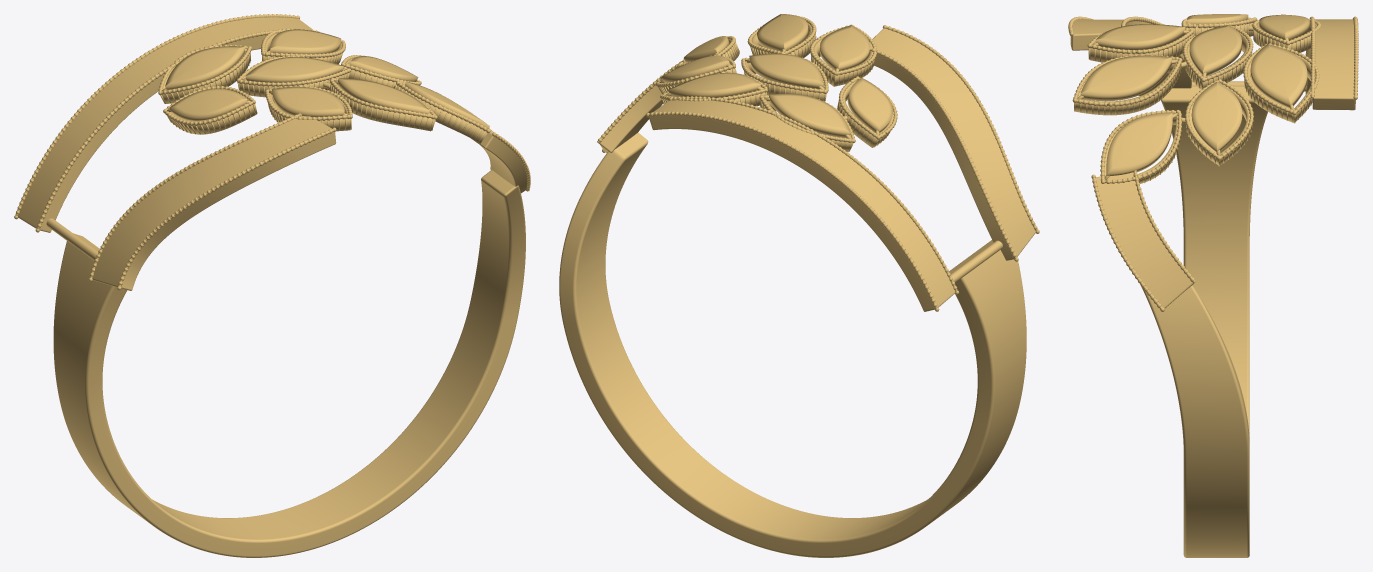
The picture shows the model from 3 angles, left to right: view 1: azimuth 30°, elevation 25°; view 2: azimuth 150°, elevation 25°; view 3: azimuth 270°, elevation 25°; orthographic projection. The views are drawn at different scales.
Parts seen in each view (by area): view 1: Complete tapered comfort shank | reverse inferred, Sweeping near frame, Far open frame, Milgrain | individual rounded gold beads, Open fan leaf 1 raised convex polished platelet, Open fan leaf 4 raised convex polished platelet, Open fan leaf 6 raised convex polished platelet, Open fan leaf 3 raised convex polished platelet, Open fan leaf 7 raised convex polished platelet, Open fan leaf 2 raised convex polished platelet, Right terminal shoulder, Open fan leaf 7 open marquise gallery (+5 smaller); view 2: Complete tapered comfort shank | reverse inferred, Far open frame, Sweeping near frame, Milgrain | individual rounded gold beads, Open fan leaf 1 raised convex polished platelet, Open fan leaf 4 raised convex polished platelet, Open fan leaf 6 raised convex polished platelet, Open fan leaf 2 raised convex polished platelet, Open fan leaf 3 raised convex polished platelet, Right terminal shoulder, Open fan leaf 7 raised convex polished platelet, Open fan leaf 5 raised convex polished platelet (+3 smaller); view 3: Complete tapered comfort shank | reverse inferred, Milgrain | individual rounded gold beads, Right terminal shoulder, Far open frame, Open fan leaf 7 raised convex polished platelet, Open fan leaf 8 raised convex polished platelet, Open fan leaf 2 raised convex polished platelet, Open fan leaf 5 raised convex polished platelet, Open fan leaf 4 raised convex polished platelet, Open fan leaf 6 raised convex polished platelet, Sweeping near frame, Open fan leaf 7 open marquise gallery (+10 smaller).
Boxes of the visible parts, x1,y1,x2,y2 form: Complete tapered comfort shank | reverse inferred: [53, 170, 525, 557]; Sweeping near frame: [92, 116, 336, 290]; Far open frame: [18, 17, 314, 232]; Milgrain | individual rounded gold beads: [14, 14, 530, 290]; Open fan leaf 1 raised convex polished platelet: [165, 46, 244, 89]; Open fan leaf 4 raised convex polished platelet: [245, 57, 343, 82]; Open fan leaf 6 raised convex polished platelet: [271, 86, 344, 116]; Open fan leaf 3 raised convex polished platelet: [169, 88, 247, 120]; Open fan leaf 7 raised convex polished platelet: [338, 78, 429, 114]; Open fan leaf 2 raised convex polished platelet: [270, 29, 341, 54]; Right terminal shoulder: [472, 132, 527, 193]; Open fan leaf 7 open marquise gallery: [330, 82, 432, 131]; Complete tapered comfort shank | reverse inferred: [559, 132, 1026, 557]; Far open frame: [649, 100, 955, 311]; Sweeping near frame: [868, 28, 1035, 260]; Milgrain | individual rounded gold beads: [598, 15, 1039, 311]; Open fan leaf 1 raised convex polished platelet: [769, 93, 850, 137]; Open fan leaf 4 raised convex polished platelet: [749, 53, 822, 89]; Open fan leaf 6 raised convex polished platelet: [820, 25, 870, 70]; Open fan leaf 2 raised convex polished platelet: [668, 72, 760, 97]; Open fan leaf 3 raised convex polished platelet: [847, 77, 892, 132]; Right terminal shoulder: [599, 85, 663, 152]; Open fan leaf 7 raised convex polished platelet: [757, 14, 808, 51]; Open fan leaf 5 raised convex polished platelet: [661, 55, 729, 82]; Complete tapered comfort shank | reverse inferred: [1140, 86, 1267, 557]; Milgrain | individual rounded gold beads: [1068, 16, 1358, 311]; Right terminal shoulder: [1095, 172, 1193, 308]; Far open frame: [1305, 19, 1355, 110]; Open fan leaf 7 raised convex polished platelet: [1080, 55, 1172, 101]; Open fan leaf 8 raised convex polished platelet: [1106, 112, 1172, 175]; Open fan leaf 2 raised convex polished platelet: [1250, 44, 1307, 107]; Open fan leaf 5 raised convex polished platelet: [1191, 81, 1242, 151]; Open fan leaf 4 raised convex polished platelet: [1189, 25, 1241, 75]; Open fan leaf 6 raised convex polished platelet: [1095, 24, 1185, 49]; Sweeping near frame: [1070, 19, 1191, 95]; Open fan leaf 7 open marquise gallery: [1075, 59, 1179, 115].
Bounding box in the file's own units: 0.0195 × 0.0202 × 0.0108.
